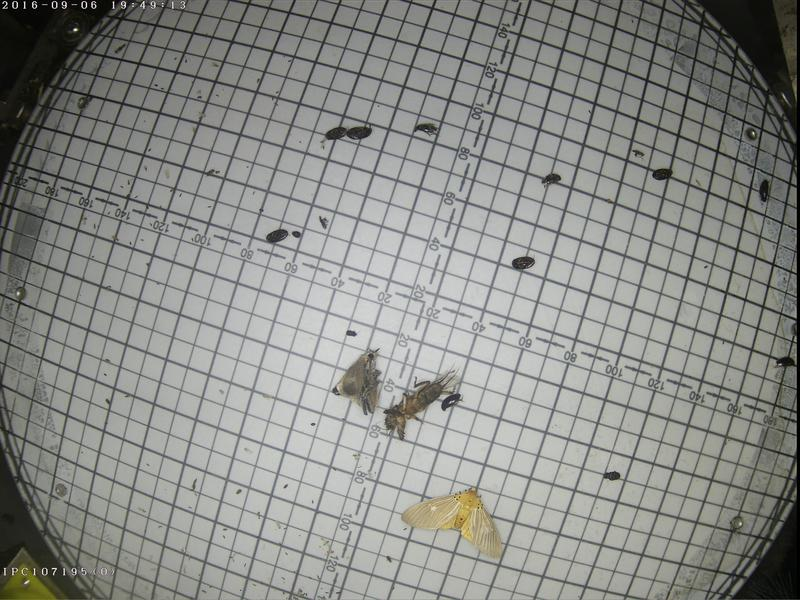Gryllotalpa orientalis: (374, 363, 458, 440)
